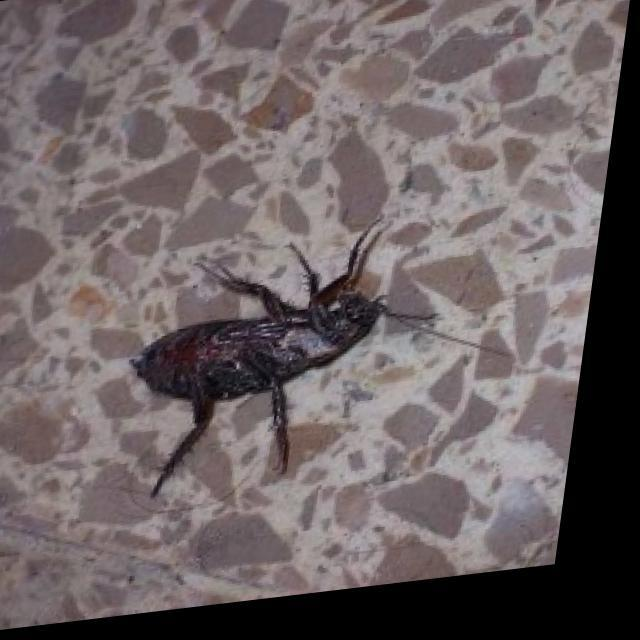cockroach: (124, 212, 507, 503)
